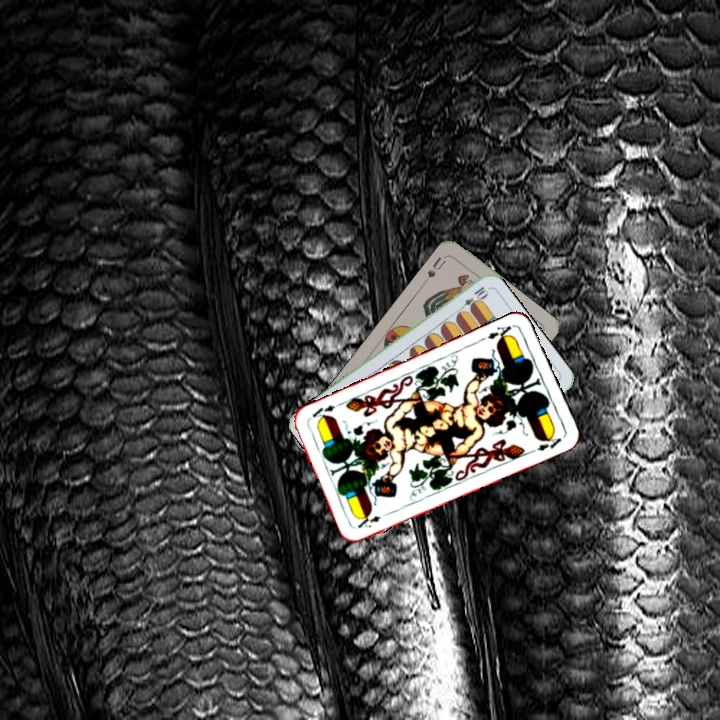E10: (454, 282, 490, 315)
EA: (483, 321, 515, 345), (353, 511, 383, 531)
SU: (420, 252, 449, 286)
